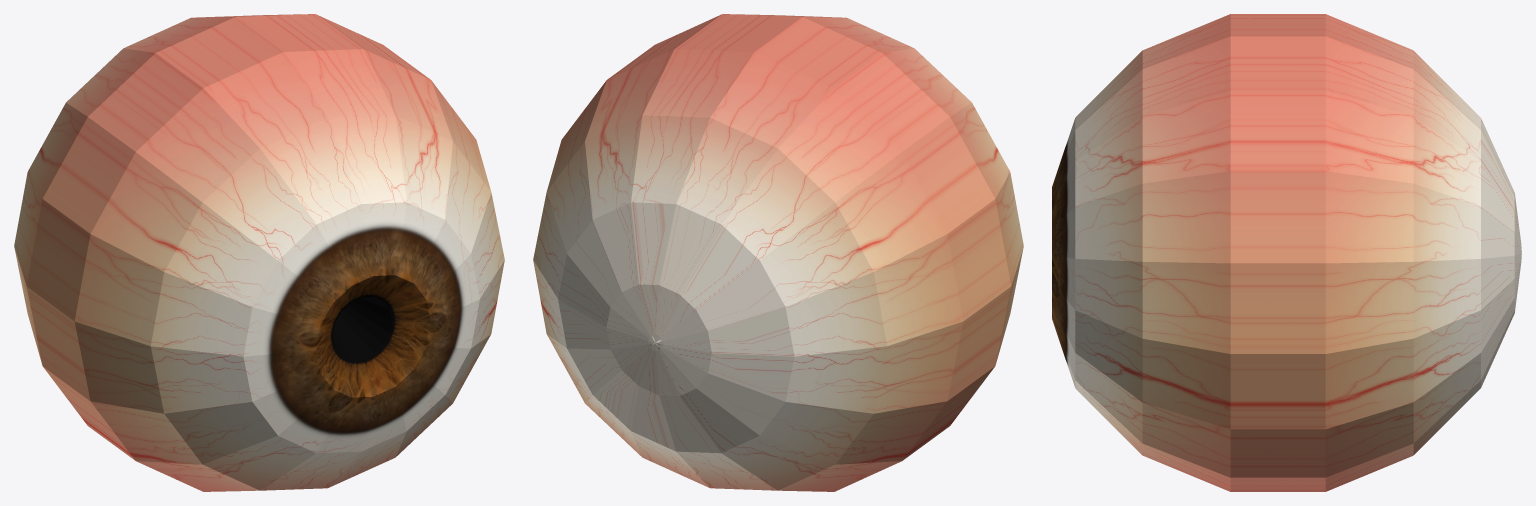
The model's file is Eye.fbx.
3 renders of one model, left to right at view 1: azimuth 30°, elevation 25°; view 2: azimuth 150°, elevation 25°; view 3: azimuth 270°, elevation 25°, orthographic.
Visible parts, largest first — view 1: Eye; view 2: Eye; view 3: Eye.
Boxes of the visible parts, x1,y1,x2,y2 form: Eye: [14, 14, 504, 491]; Eye: [533, 14, 1023, 491]; Eye: [1052, 14, 1521, 491].
Size of the model in its own units: 3.86 by 3.86 by 3.79.
